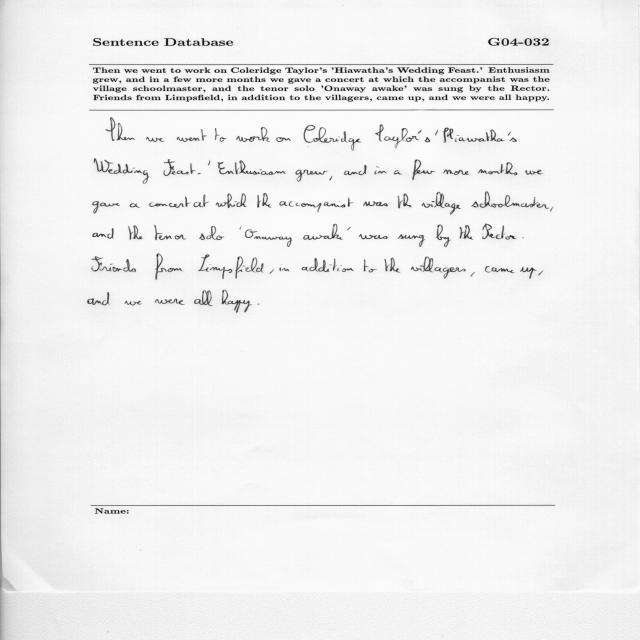word: (198, 254, 264, 279), (304, 125, 362, 150), (95, 159, 150, 184), (472, 192, 550, 209), (375, 125, 430, 149), (411, 257, 466, 279), (279, 198, 354, 213), (443, 128, 517, 143), (218, 160, 286, 175), (422, 192, 461, 215), (245, 229, 292, 247), (301, 258, 354, 272), (155, 254, 183, 280), (92, 256, 136, 272), (222, 290, 252, 313), (106, 118, 135, 141), (303, 224, 343, 240), (164, 159, 196, 176), (478, 162, 518, 175), (237, 127, 271, 142), (482, 224, 516, 239), (412, 160, 435, 181), (155, 225, 187, 240), (216, 193, 247, 208), (149, 197, 191, 208), (295, 170, 328, 182), (177, 129, 207, 142), (93, 201, 120, 214), (398, 234, 425, 247), (199, 226, 224, 240), (436, 225, 451, 248), (194, 290, 213, 306), (88, 292, 110, 305), (385, 258, 401, 273), (93, 228, 114, 239), (128, 225, 143, 240), (344, 165, 366, 175), (257, 193, 271, 208), (398, 194, 412, 209), (485, 266, 515, 273), (155, 298, 185, 305), (520, 267, 537, 279), (460, 225, 473, 240), (193, 195, 209, 207), (364, 260, 377, 273), (215, 128, 227, 142), (443, 169, 469, 175), (359, 234, 388, 239), (363, 202, 388, 207), (375, 167, 387, 175), (146, 137, 164, 142), (525, 170, 543, 175), (276, 137, 291, 142), (125, 301, 142, 305), (130, 203, 140, 208), (394, 170, 402, 175), (279, 268, 289, 272), (269, 269, 274, 274), (539, 271, 544, 276), (550, 207, 554, 212), (435, 130, 438, 136), (471, 272, 475, 276), (208, 160, 210, 166), (330, 176, 333, 180), (347, 227, 351, 230), (240, 226, 242, 230), (198, 173, 201, 174), (522, 237, 524, 238), (258, 304, 260, 305)
